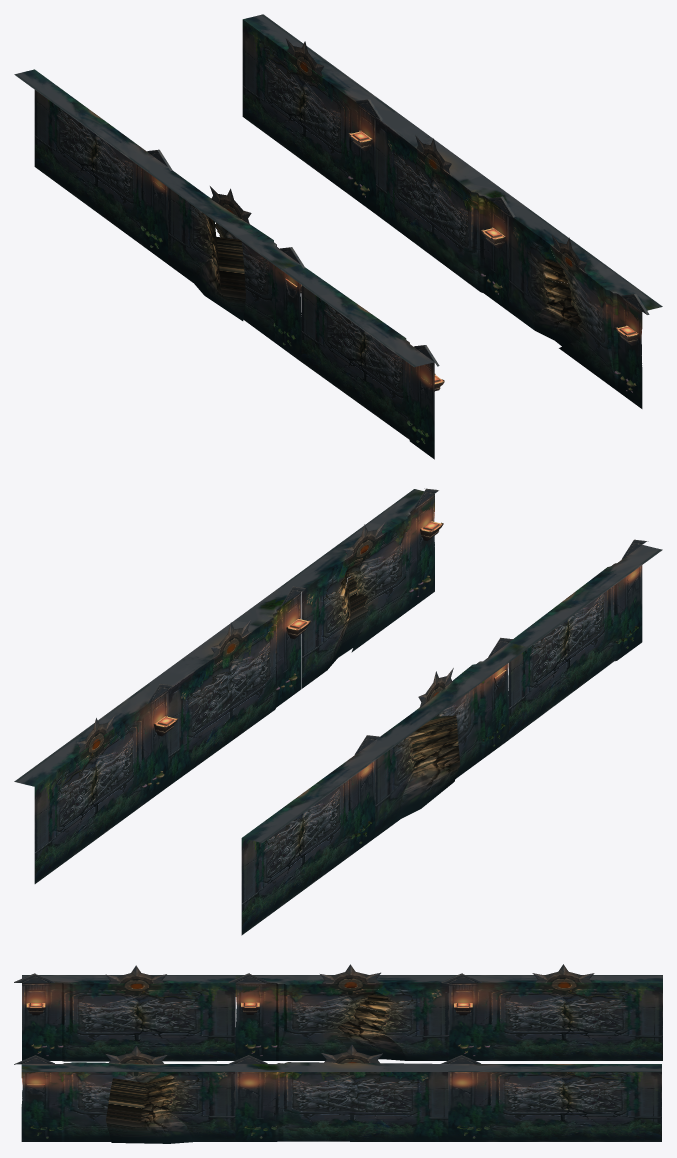
The model's file is Cimelia_Wall_01.FBX.
3 views of the same model, one above another, from view 1: azimuth 30°, elevation 25°; view 2: azimuth 150°, elevation 25°; view 3: azimuth 270°, elevation 25° (orthographic). The views are drawn at different scales.
Visible parts, largest first — view 1: Cimelia_Wall_01; view 2: Cimelia_Wall_01; view 3: Cimelia_Wall_01.
Boxes of the visible parts, box(x1,y1,x2,y2) form: Cimelia_Wall_01: box(14, 14, 662, 459); Cimelia_Wall_01: box(14, 488, 662, 935); Cimelia_Wall_01: box(14, 964, 662, 1143).
Size of the model in its own units: 9.08 by 4.23 by 25.6.
